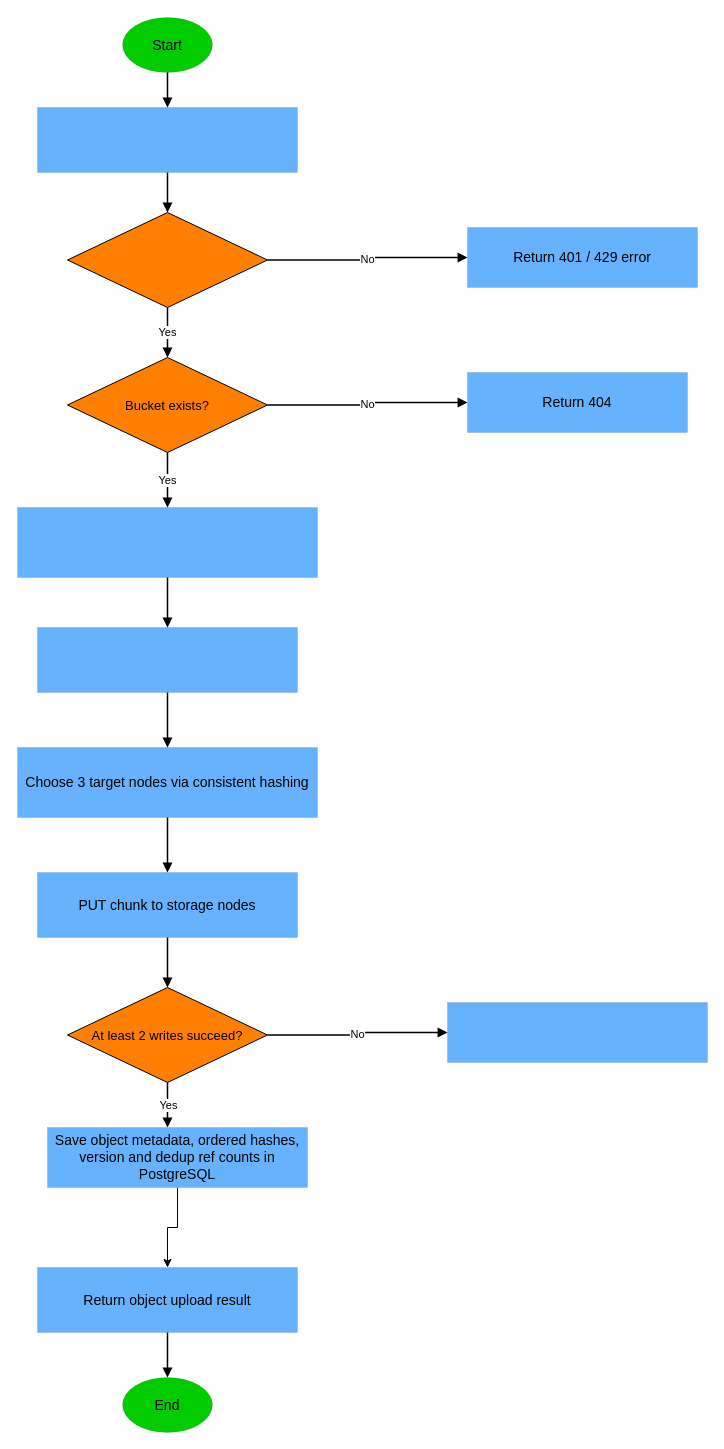
The diagram is 724 pixels wide and 1449 high, and some of its shapes have lost their labels. Each missing label, with the centre of its shape:
API key valid and rate limit OK?: [167,260]
Client uploads object: [167,139]
Compute SHA-256 for each chunk: [167,659]
Read upload in chunks (fixed size / CDC if enabled): [167,542]
Return 503; write quorum failed: [577,1032]
